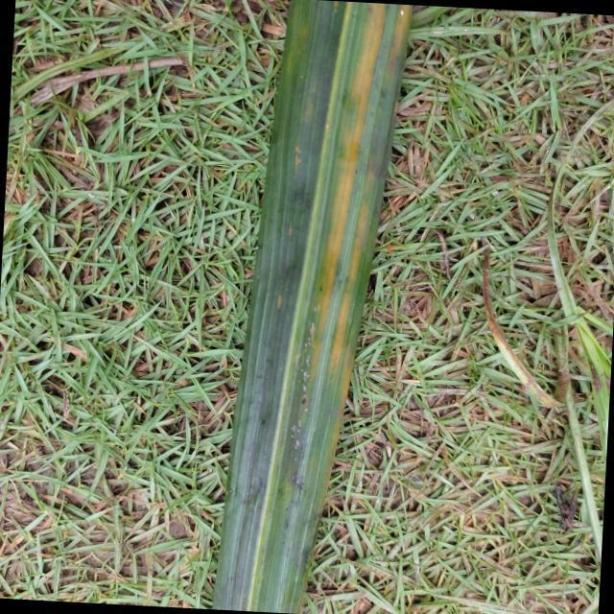Megnesium: (209, 0, 416, 614)
